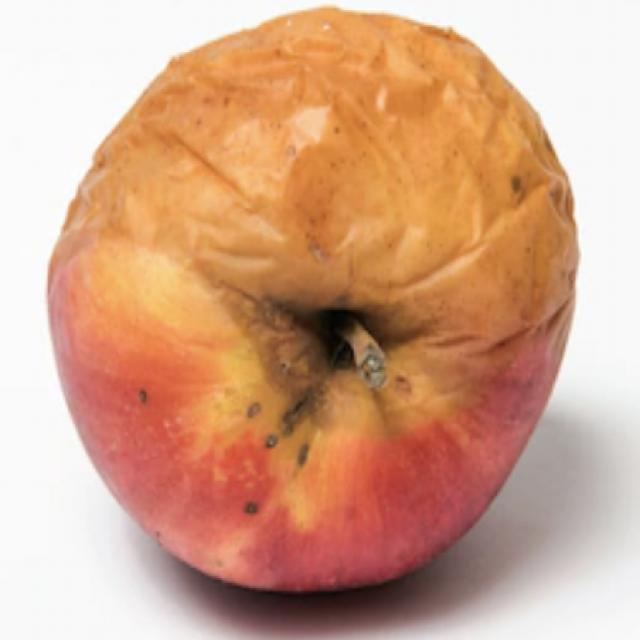Rotten: (47, 5, 578, 588)
